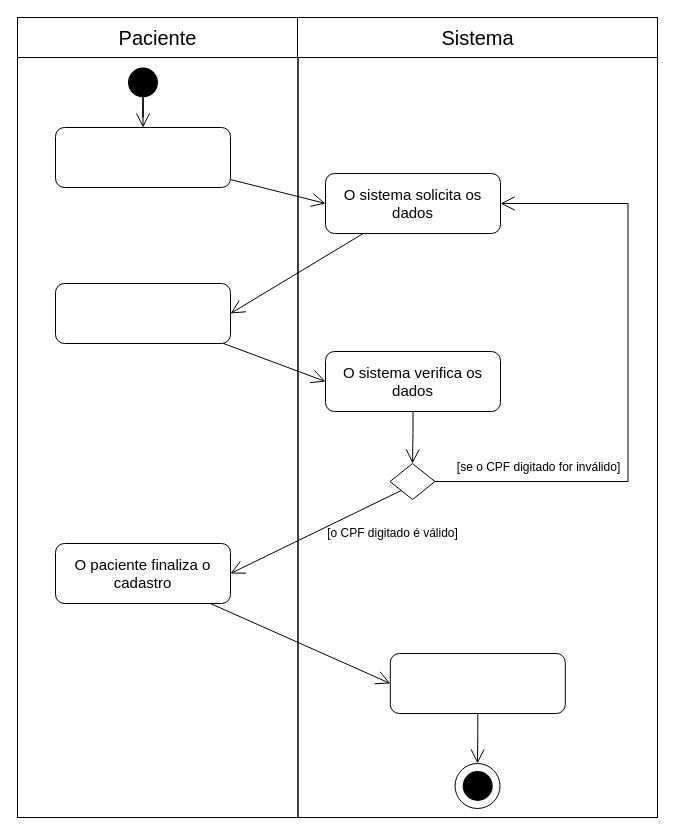
Some shapes in this 675 by 835 pixel diagram are drawn without their labels. Here are the shapes that lost their labels. From the top down, the box of each, then its label:
(54, 126, 230, 188): O paciente acessa o sistema
(54, 282, 230, 344): O paciente insere os dados
(389, 652, 565, 714): O sistema armazena os dados
